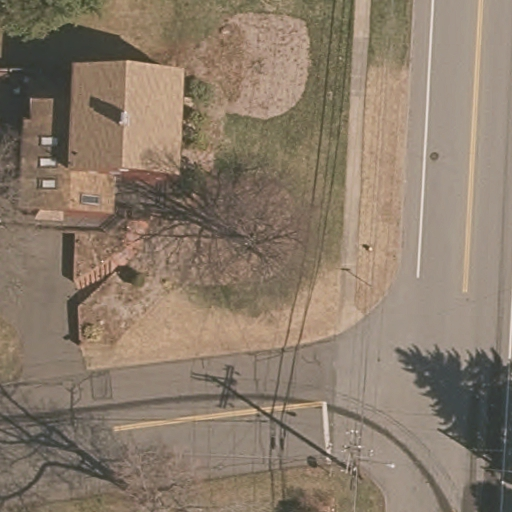DT: (334, 424, 391, 491)
